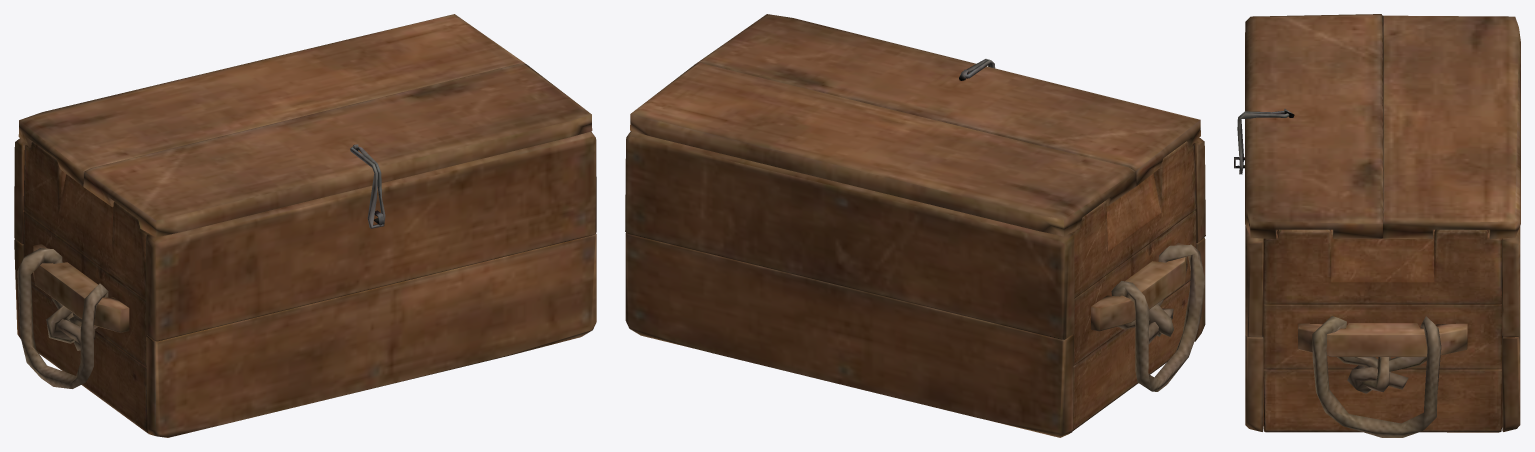
File: thung-go.glb
3 views of the same model, side by side, from view 1: azimuth 30°, elevation 25°; view 2: azimuth 150°, elevation 25°; view 3: azimuth 270°, elevation 25° (orthographic). The views are drawn at different scales.
Visible parts, largest first — view 1: wooden_crate_01, wooden_crate_01_lid, wooden_crate_01_latch; view 2: wooden_crate_01, wooden_crate_01_lid; view 3: wooden_crate_01_lid, wooden_crate_01, wooden_crate_01_latch.
Part boxes in pixels (bbox=[...]): wooden_crate_01: bbox=[14, 131, 596, 437]; wooden_crate_01_lid: bbox=[18, 14, 592, 237]; wooden_crate_01_latch: bbox=[350, 146, 385, 228]; wooden_crate_01: bbox=[625, 131, 1205, 437]; wooden_crate_01_lid: bbox=[630, 14, 1200, 236]; wooden_crate_01_lid: bbox=[1245, 14, 1520, 239]; wooden_crate_01: bbox=[1234, 157, 1520, 437]; wooden_crate_01_latch: bbox=[1237, 111, 1289, 174].
Size of the model in its own units: 0.9945 by 0.4224 by 0.494.
Materials: 1 (1 with a texture image).
